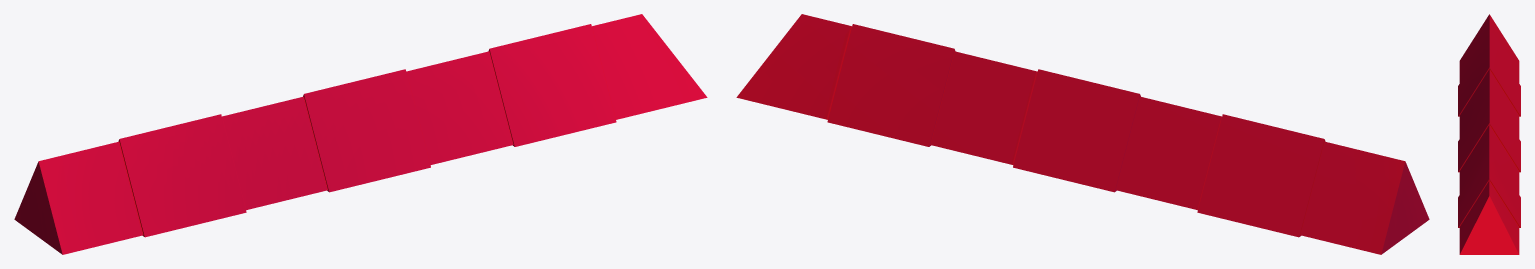
Rendered from Roof Tiles 7.fbx.
The picture shows the model from 3 angles, left to right: view 1: azimuth 30°, elevation 25°; view 2: azimuth 150°, elevation 25°; view 3: azimuth 270°, elevation 25°; orthographic projection. The views are drawn at different scales.
Parts seen in each view (by area): view 1: Roof Tiles 7; view 2: Roof Tiles 7; view 3: Roof Tiles 7.
Part boxes in pixels (box(x1,y1,x2,y2)): Roof Tiles 7: box(14, 14, 707, 254); Roof Tiles 7: box(736, 14, 1429, 254); Roof Tiles 7: box(1458, 14, 1520, 254).
Bounding box in the file's own units: 401 × 47.4 × 54.73.
1 material, 1 textured.
